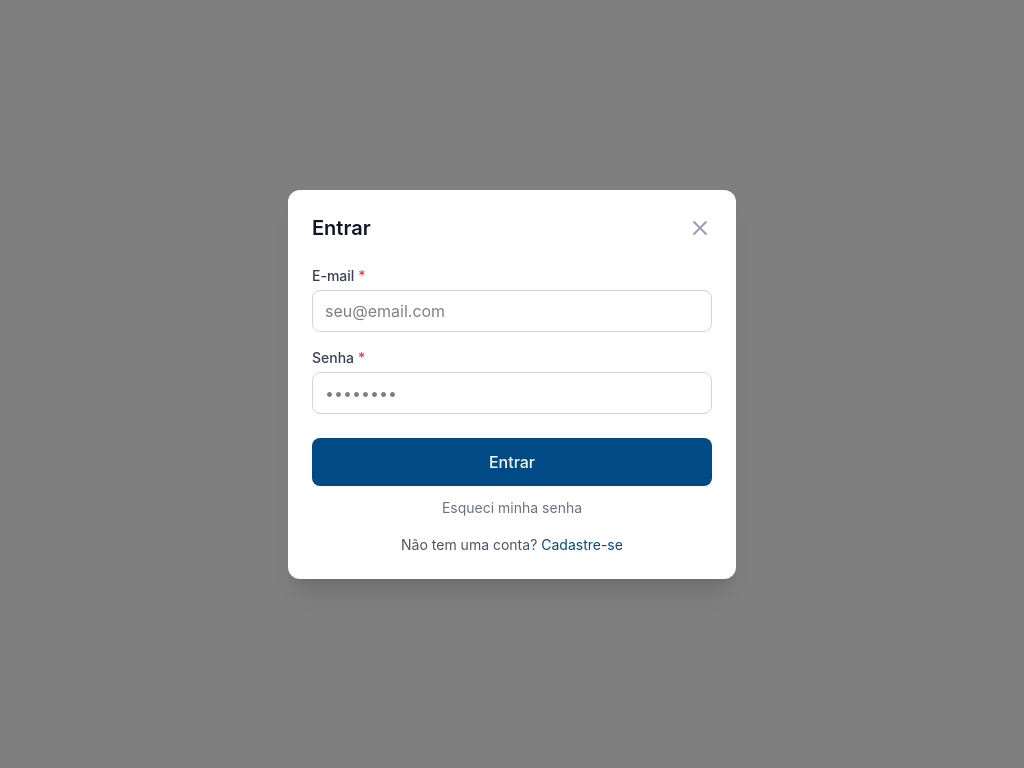
Scenario: AuthModal › switches to register mode
Click the button "Cadastre-se": [582, 544] box [541,534,623,554]
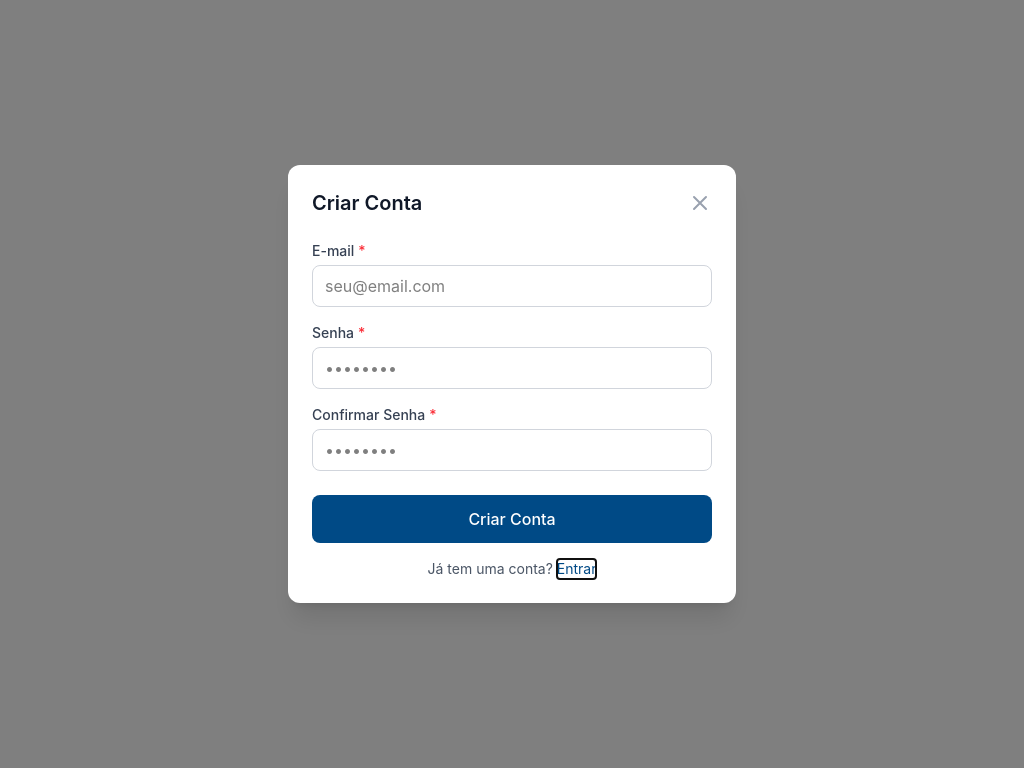
Now the heading "Criar Conta" is shown, box [312,189,422,217]
Now the text "Confirmar Senha" is shown, box [312,406,425,423]
